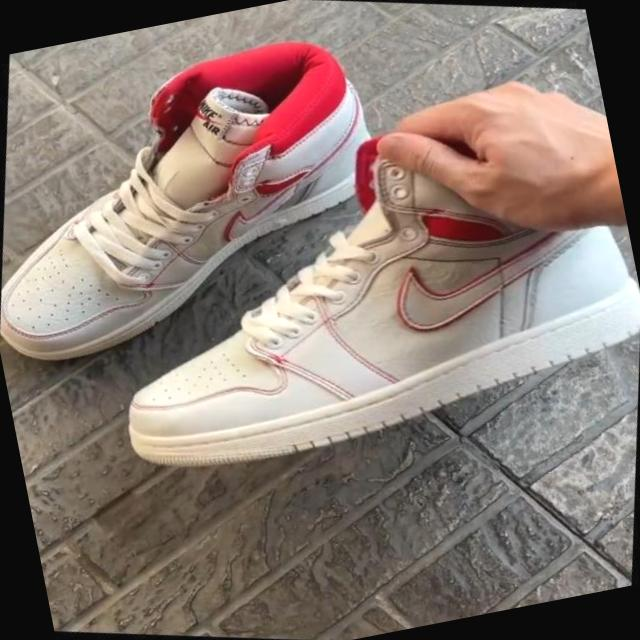nike_fake_jordan: (44, 26, 640, 579), (0, 0, 431, 444)
